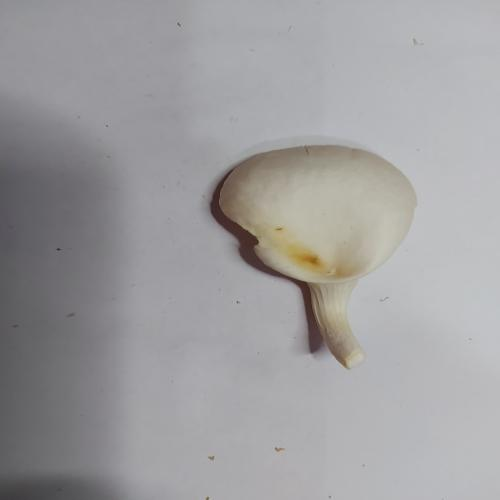Oyster Mushroom: (217, 143, 418, 370)
